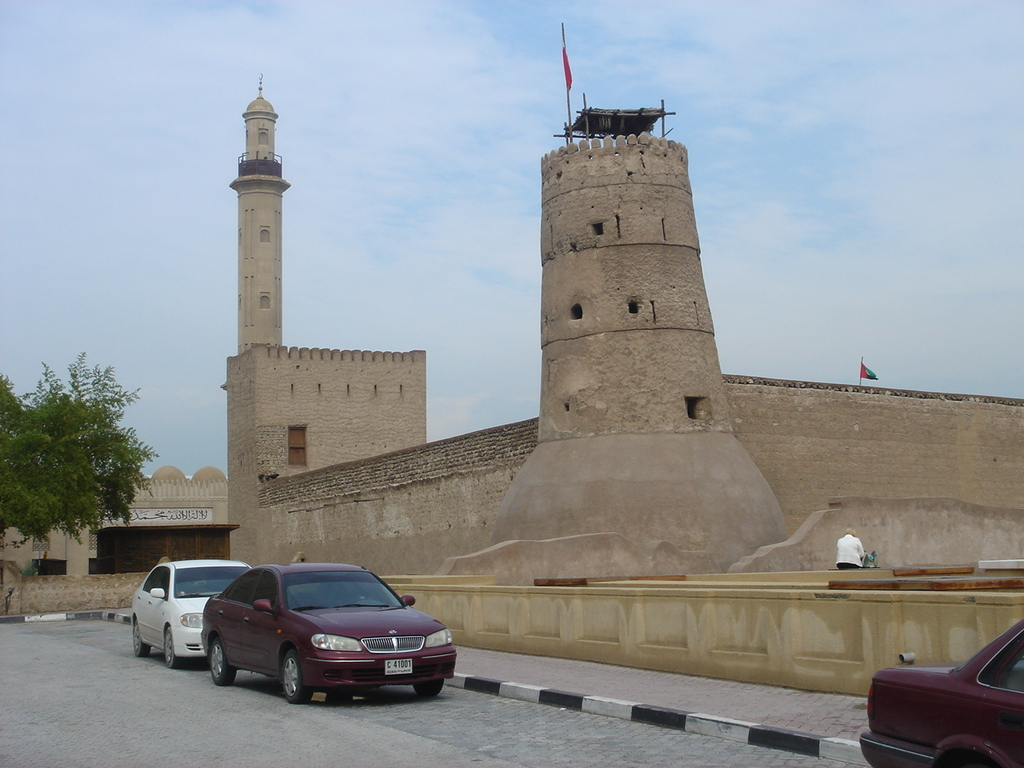Car: (199, 556, 455, 703), (862, 620, 1023, 767), (134, 551, 263, 671)
